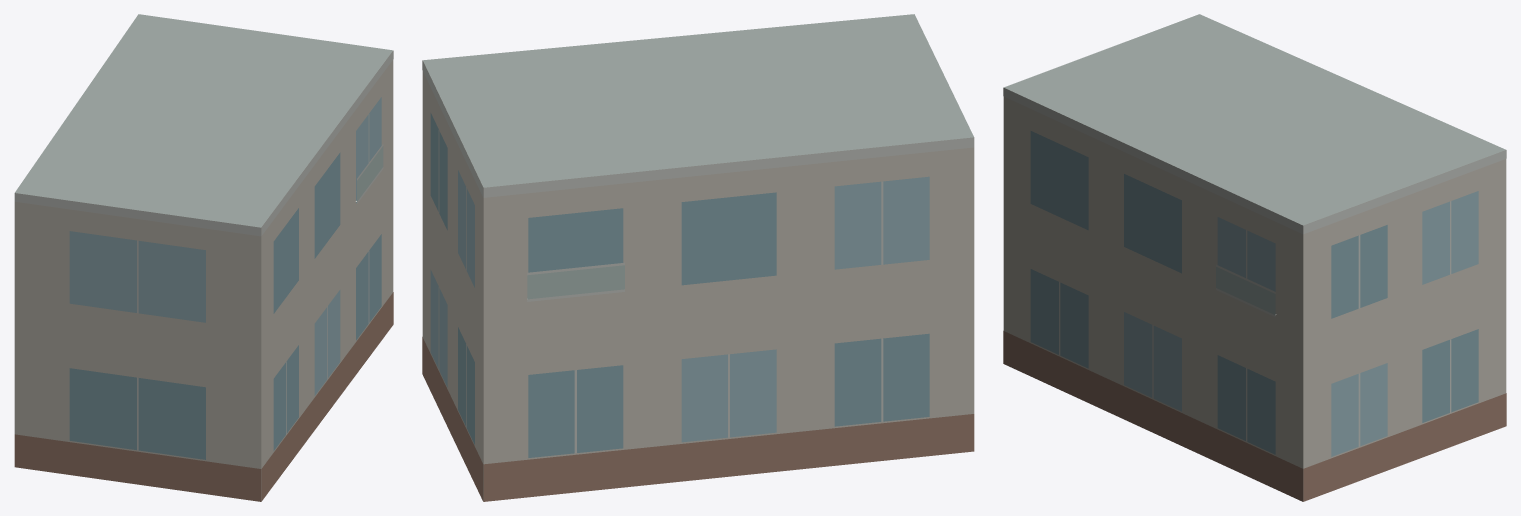
File: survey-upis-33025715.glb
3 views of the same model, side by side, from view 1: azimuth 30°, elevation 25°; view 2: azimuth 150°, elevation 25°; view 3: azimuth 270°, elevation 25° (orthographic). The views are drawn at different scales.
Visible parts, largest first — view 1: survey-upis-33025715.tmp; view 2: survey-upis-33025715.tmp; view 3: survey-upis-33025715.tmp.
Boxes of the visible parts, left/top/right/bottom form: survey-upis-33025715.tmp: left=14, top=14, right=393, bottom=501; survey-upis-33025715.tmp: left=422, top=14, right=974, bottom=501; survey-upis-33025715.tmp: left=1003, top=14, right=1506, bottom=501.
Bounding box in the file's own units: 12.49 × 7.6 × 12.54.
